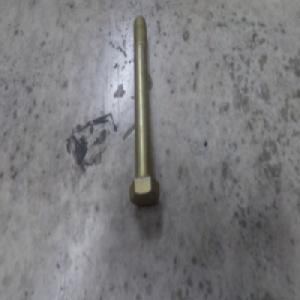Bolt: (127, 13, 159, 208)
